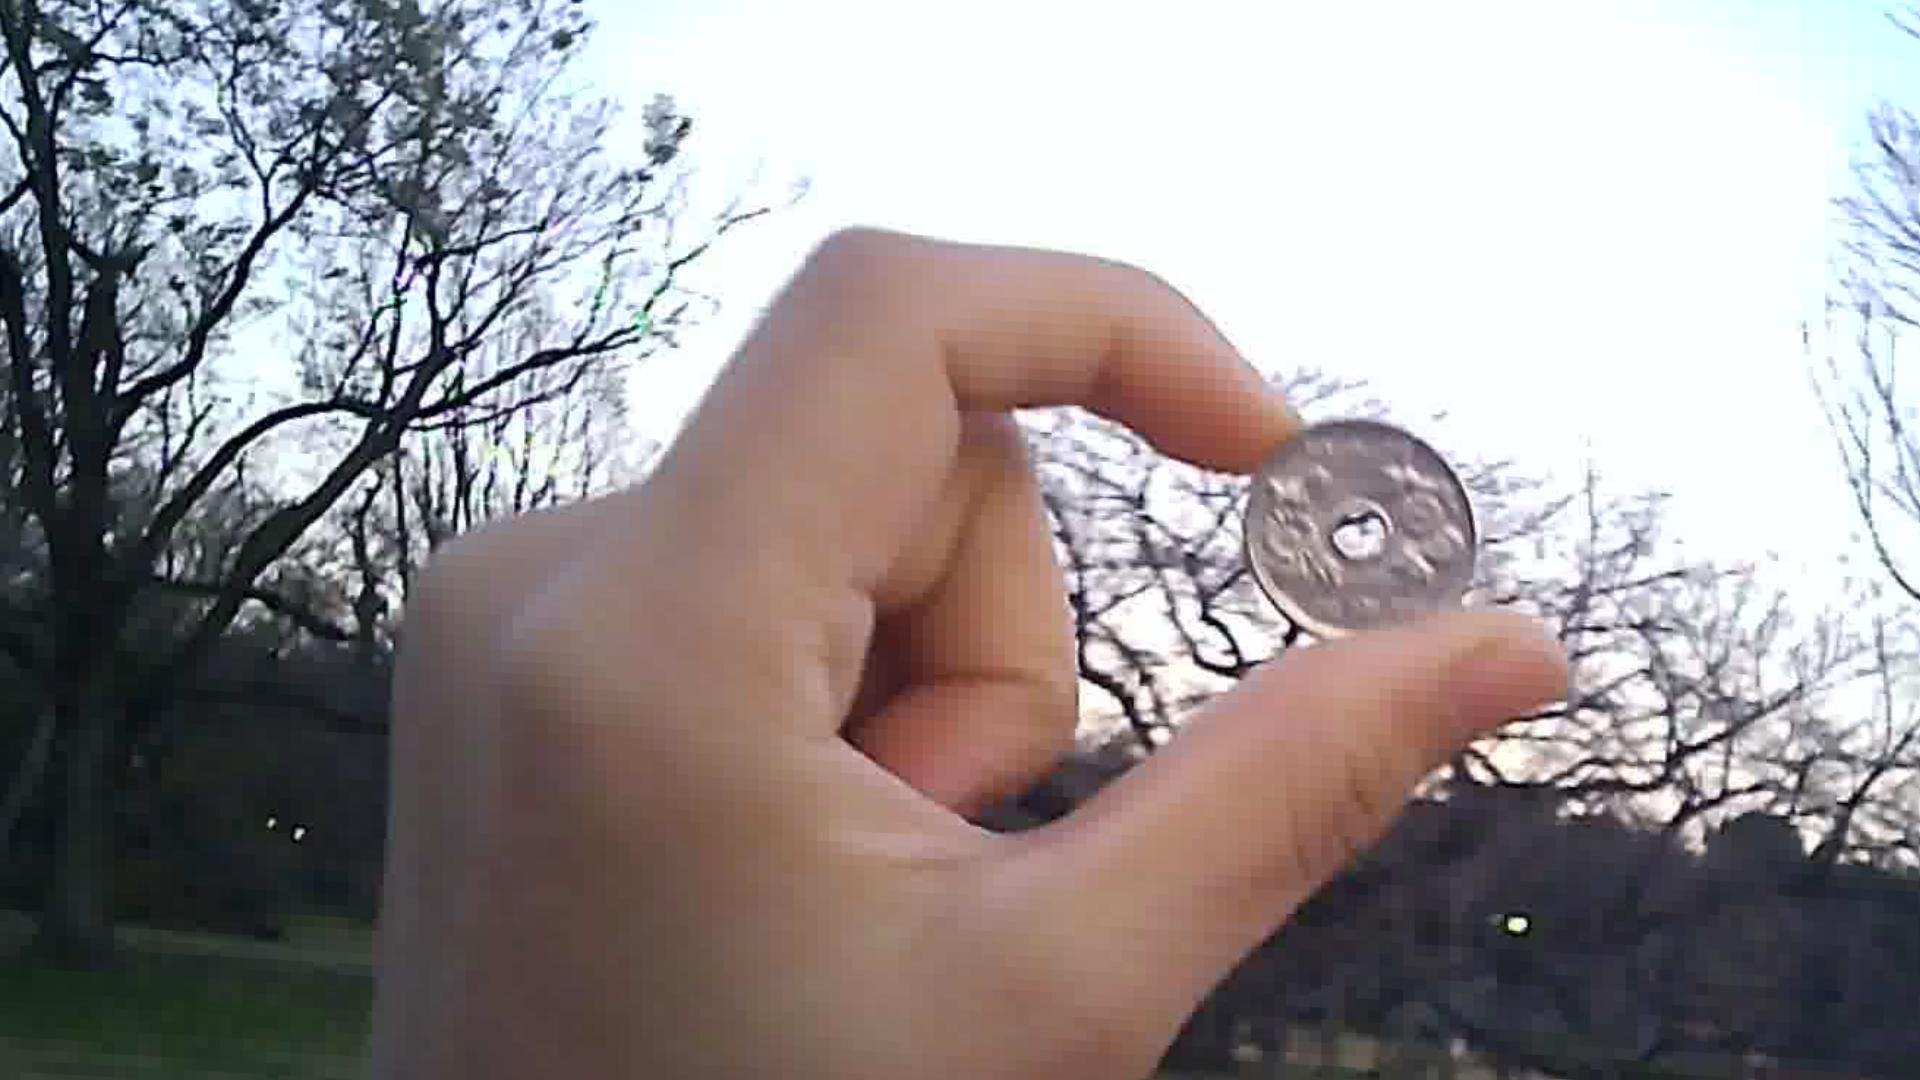50 Yen: (1236, 401, 1485, 646)
